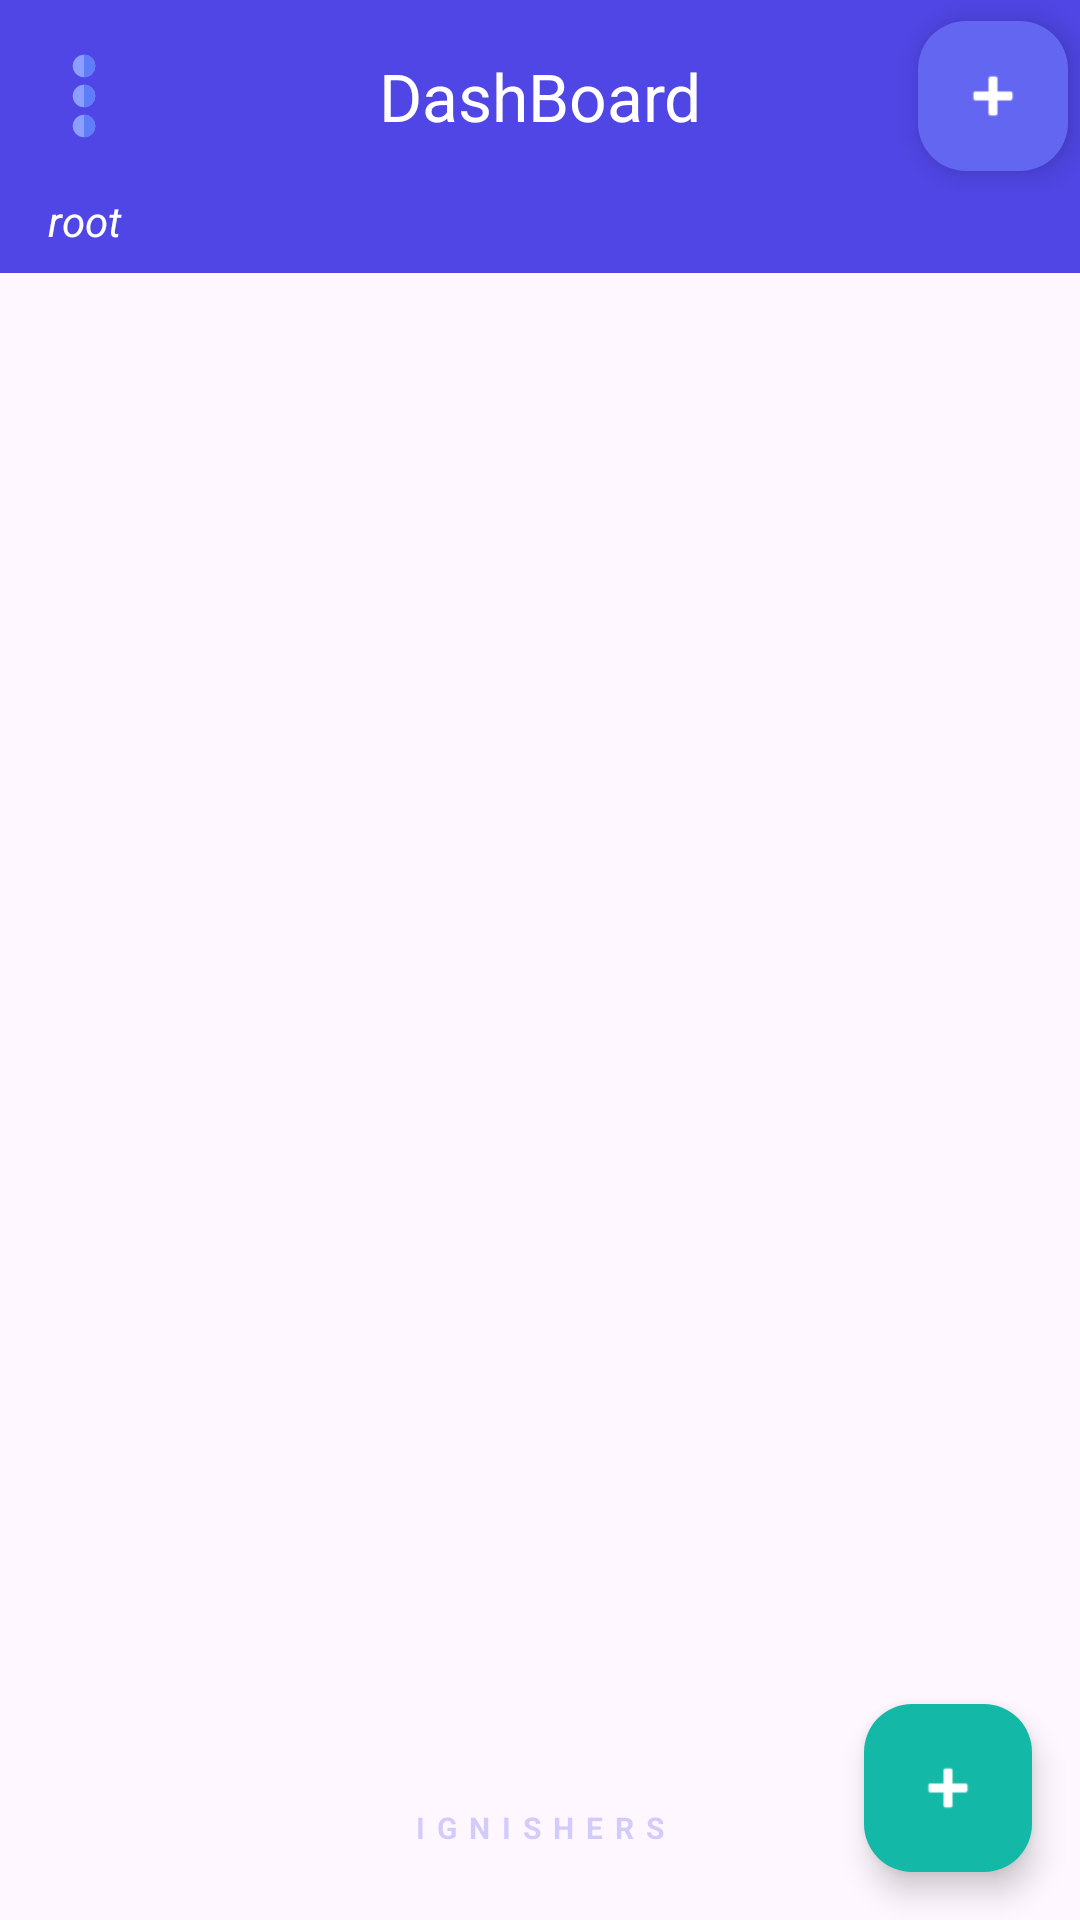

Screen size 1080*1920. Icon name, then its box in pixels as (x1, y1, x2, y2):
Add Customer: (864, 1704, 1032, 1872)
Add Group: (918, 21, 1068, 171)
